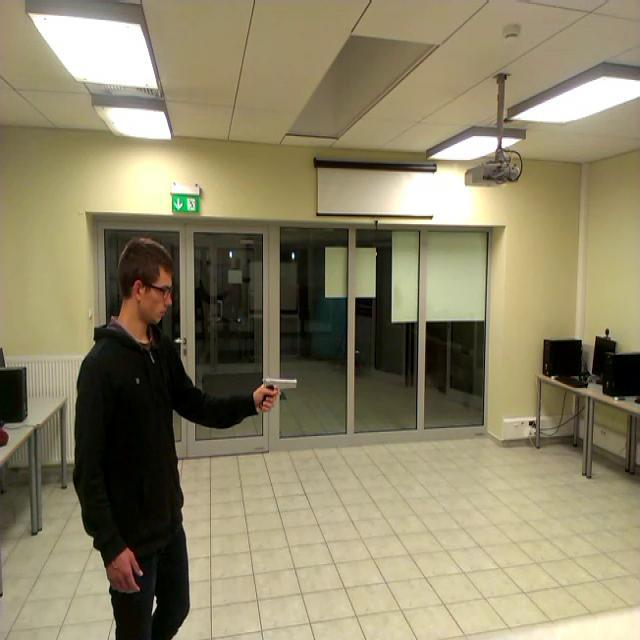Gun: (260, 377, 298, 408)
